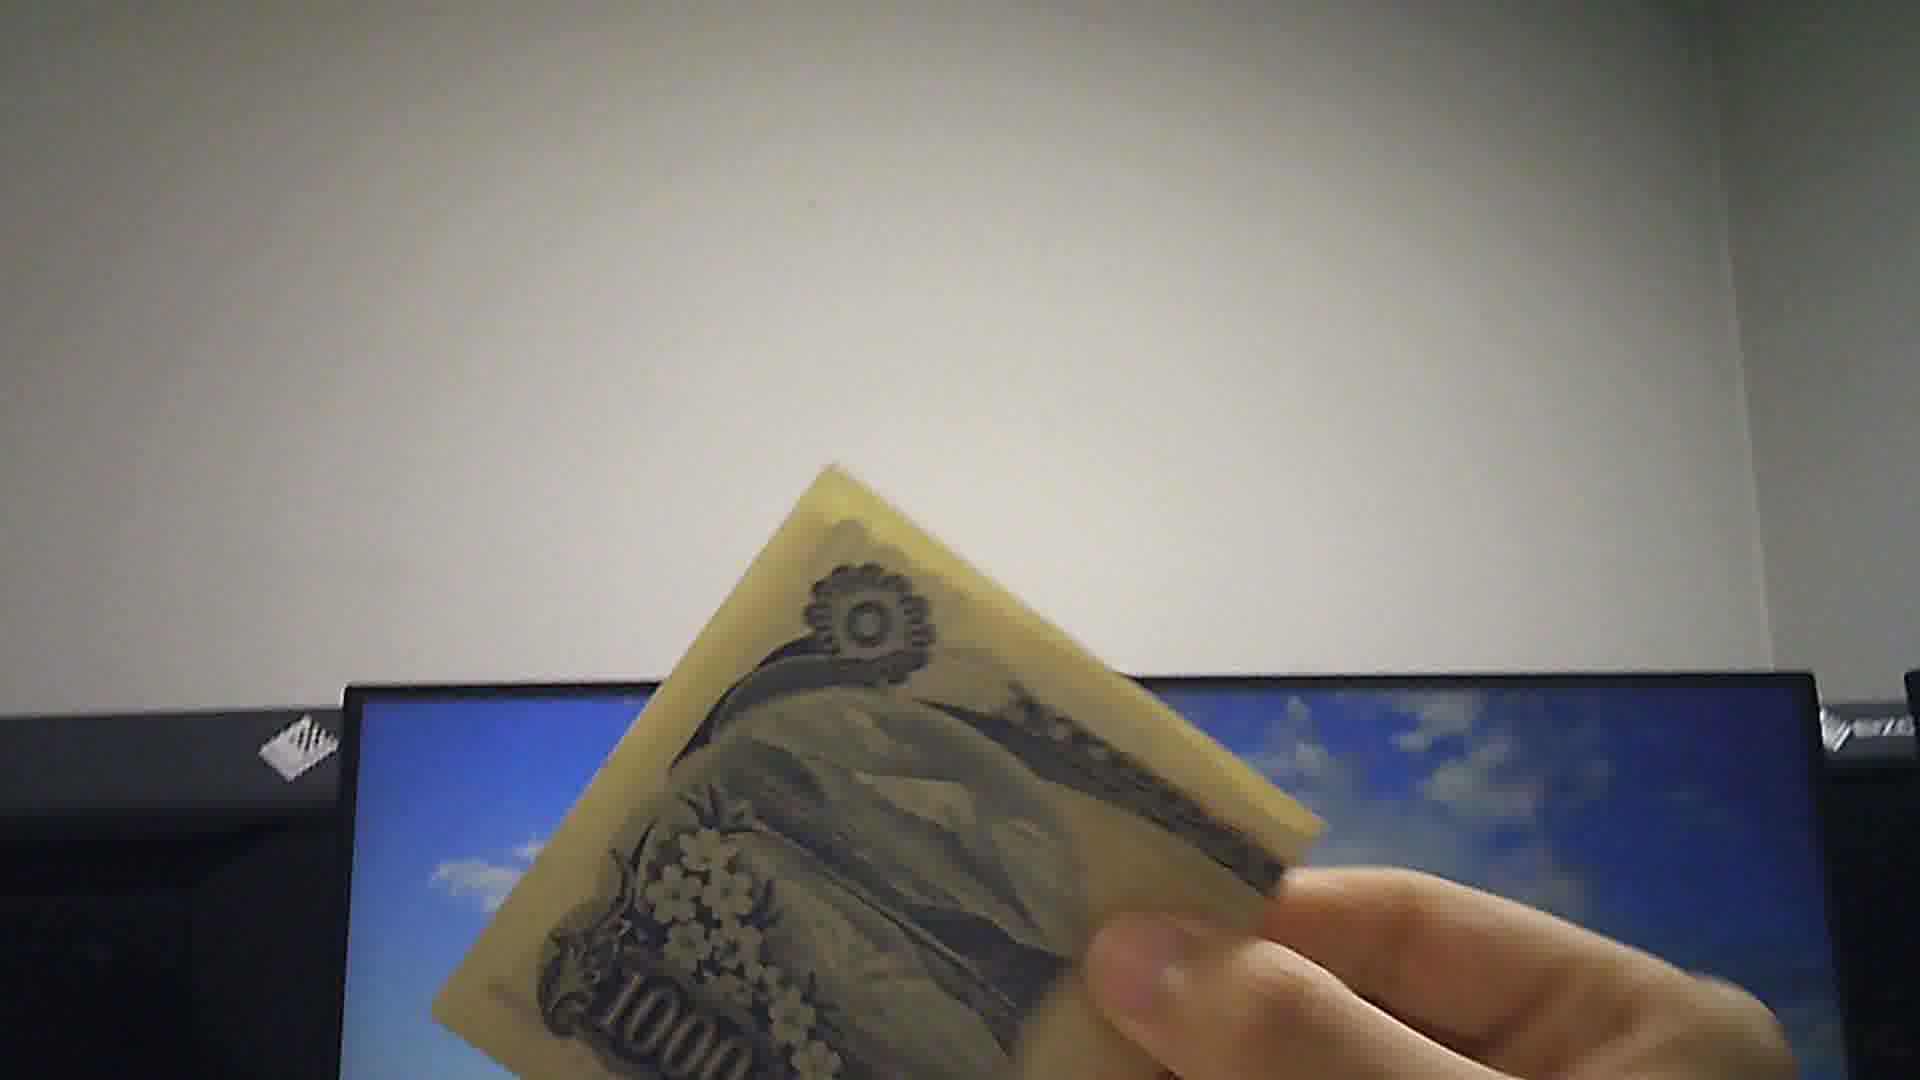1,000 Yen: (446, 450, 1294, 1077)
